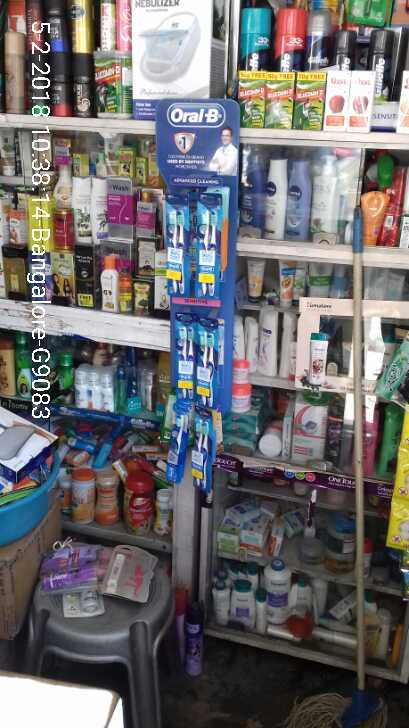oralb: (163, 201, 188, 298), (198, 316, 225, 399), (199, 205, 220, 300), (161, 412, 186, 481), (170, 324, 194, 394), (191, 421, 215, 479)
